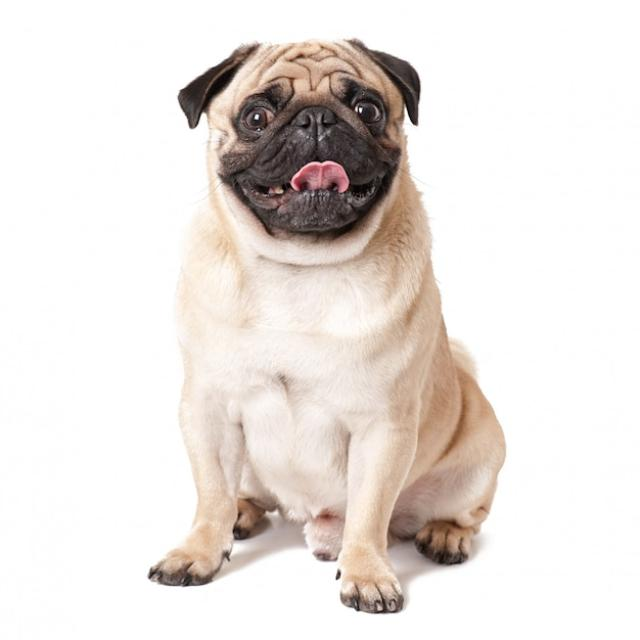Dog: (146, 37, 504, 613)
